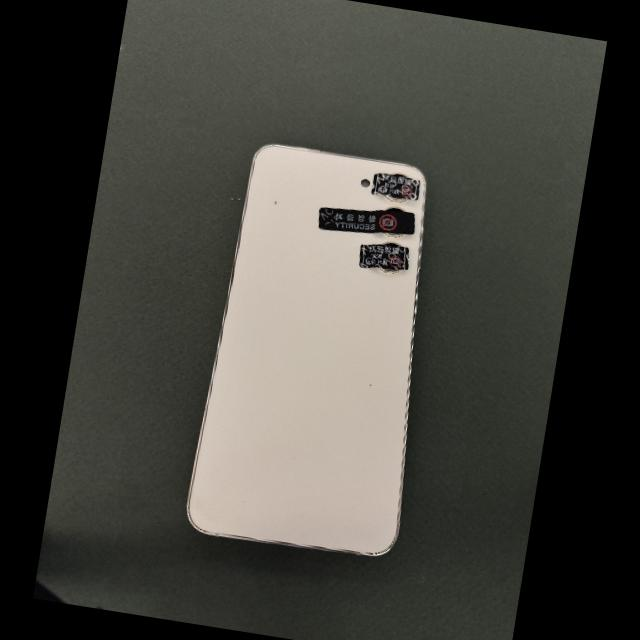lens: (384, 196, 405, 202), (378, 267, 399, 273), (384, 207, 404, 212)
phone: (188, 145, 426, 556)
sticker: (319, 208, 415, 235), (371, 173, 420, 201), (360, 244, 409, 270)
